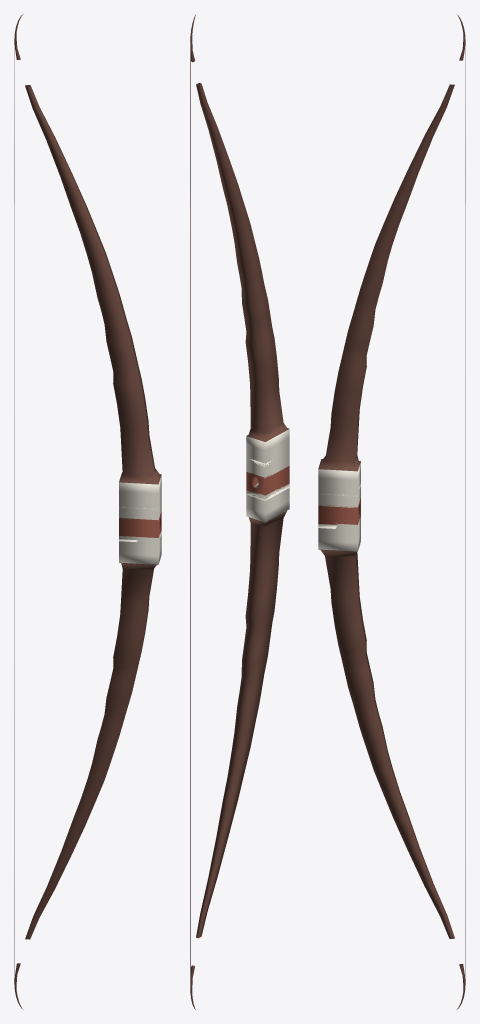
Rendered from bow.glb.
3 renders of one model, left to right at view 1: azimuth 90°, elevation 25°; view 2: azimuth 150°, elevation 25°; view 3: azimuth 270°, elevation 25°, orthographic.
Visible parts, largest first — view 1: bow; view 2: bow; view 3: bow.
Part boxes in pixels (x1,y1,x2,y2): bow: [14, 14, 161, 1009]; bow: [190, 15, 289, 1009]; bow: [318, 14, 465, 1009].
Size of the model in its own units: 0.0454 by 1.55 by 0.2081.
